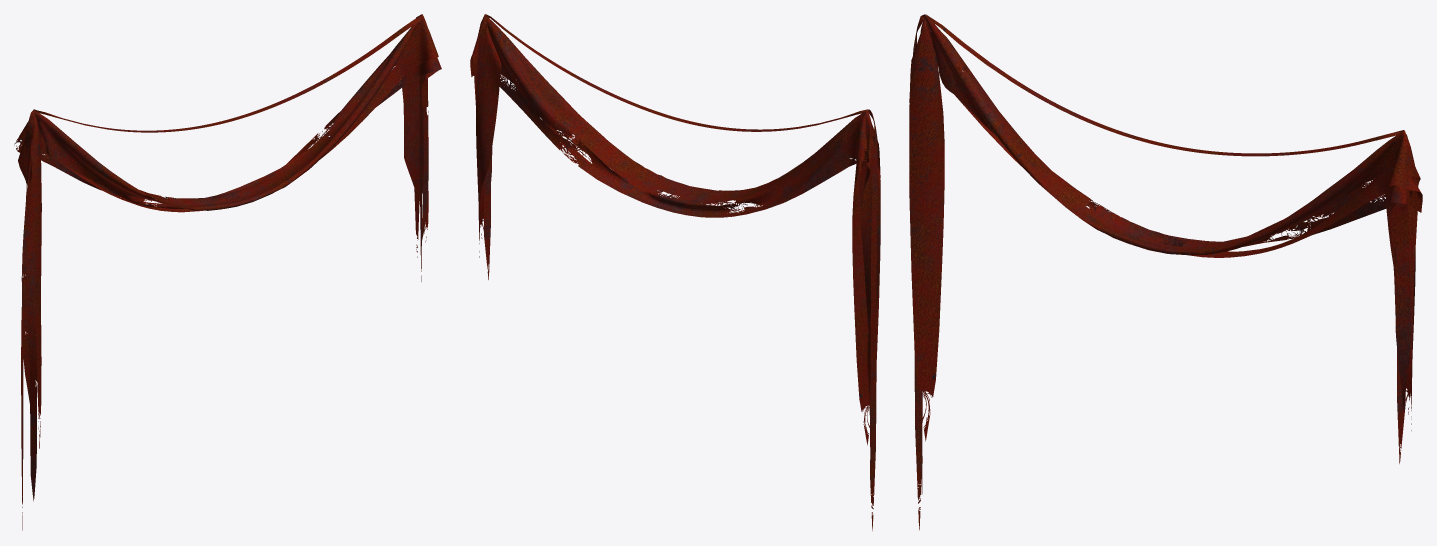
The model's file is P_Cloth01.fbx.
3 views of the same model, side by side, from view 1: azimuth 30°, elevation 25°; view 2: azimuth 150°, elevation 25°; view 3: azimuth 330°, elevation 25° (orthographic). The views are drawn at different scales.
Visible parts, largest first — view 1: P_Cloth01; view 2: P_Cloth01; view 3: P_Cloth01.
Boxes of the visible parts, left/top/right/bottom form: P_Cloth01: left=14, top=14, right=441, bottom=530; P_Cloth01: left=470, top=14, right=880, bottom=530; P_Cloth01: left=909, top=14, right=1422, bottom=530.
Size of the model in its own units: 3108 by 3044 by 322.
